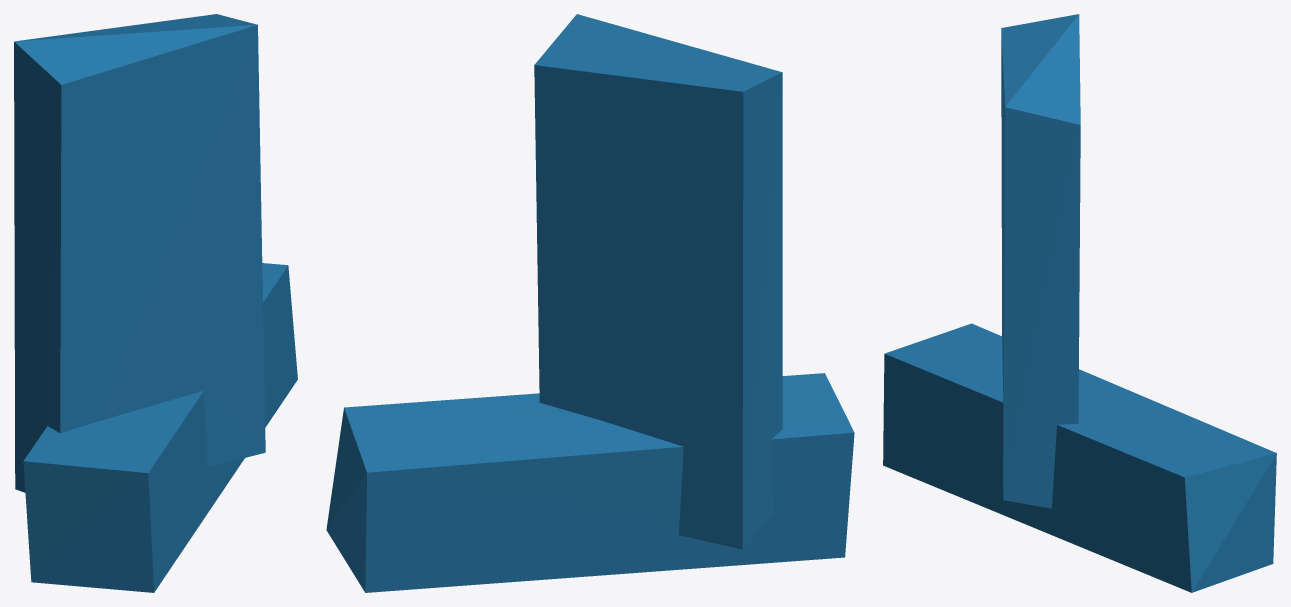
3 views of the same model, side by side, from view 1: azimuth 30°, elevation 25°; view 2: azimuth 150°, elevation 25°; view 3: azimuth 270°, elevation 25° (orthographic). The views are drawn at different scales.
Parts seen in each view (by area): view 1: 500_Cube.2023; view 2: 500_Cube.2023; view 3: 500_Cube.2023.
Part boxes in pixels (x1,y1,x2,y2): 500_Cube.2023: (14, 14, 297, 592); 500_Cube.2023: (326, 14, 854, 592); 500_Cube.2023: (883, 14, 1276, 592).
Size of the model in its own units: 11.27 by 13.29 by 10.69.
